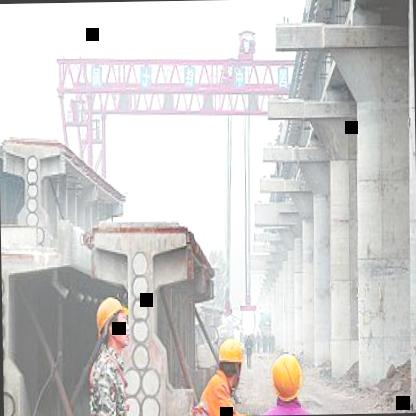helmet: (93, 292, 132, 352), (269, 350, 306, 408), (214, 333, 246, 384)
